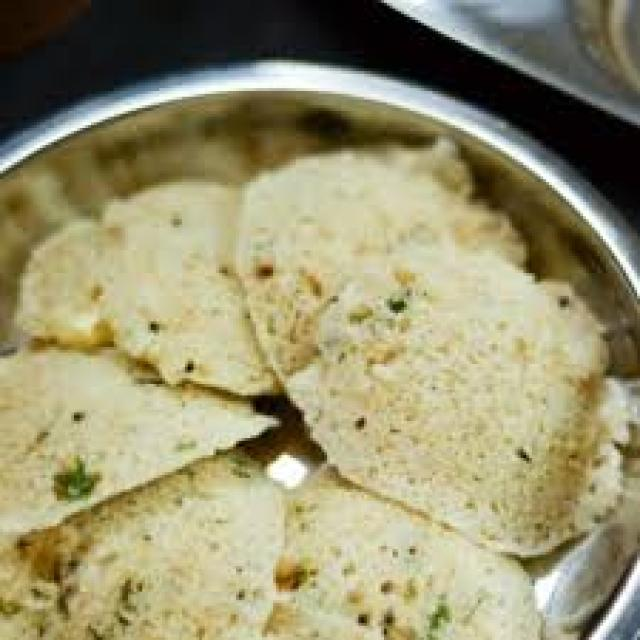IDLI: (292, 253, 623, 558), (235, 153, 499, 397), (3, 453, 284, 629), (3, 367, 272, 533), (263, 478, 543, 633), (97, 186, 285, 401)
